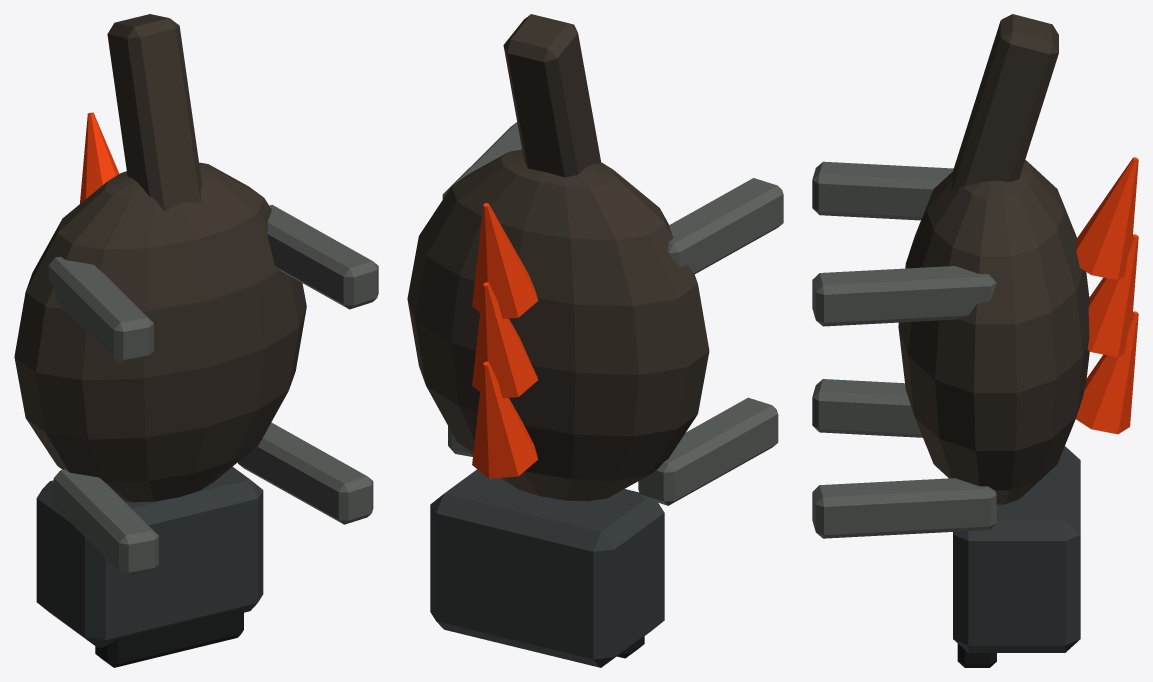
File: MoltenDrake.glb
The picture shows the model from 3 angles, left to right: view 1: azimuth 30°, elevation 25°; view 2: azimuth 150°, elevation 25°; view 3: azimuth 270°, elevation 25°; orthographic projection. The views are drawn at different scales.
Parts seen in each view (by area): view 1: Body, Head, Tail, FrontRightLeg, BackRightLeg, FrontLeftLeg, BackLeftLeg, Jaw, BackHorn3; view 2: Body, Head, Tail, FrontLeftLeg, BackLeftLeg, BackHorn1, BackHorn3, BackHorn2, BackRightLeg; view 3: Body, Head, Tail, FrontRightLeg, BackRightLeg, BackLeftLeg, FrontLeftLeg, BackHorn3, BackHorn1, BackHorn2, Jaw.
Boxes of the visible parts, left/top/right/bottom form: Body: left=14, top=162, right=306, bottom=502; Head: left=36, top=466, right=263, bottom=648; Tail: left=107, top=14, right=201, bottom=211; FrontRightLeg: left=238, top=422, right=373, bottom=524; BackRightLeg: left=267, top=204, right=378, bottom=309; FrontLeftLeg: left=53, top=469, right=158, bottom=576; BackLeftLeg: left=48, top=256, right=153, bottom=363; Jaw: left=95, top=609, right=243, bottom=667; BackHorn3: left=80, top=112, right=119, bottom=203; Body: left=407, top=149, right=709, bottom=501; Head: left=430, top=469, right=664, bottom=667; Tail: left=503, top=14, right=601, bottom=177; FrontLeftLeg: left=638, top=397, right=778, bottom=505; BackLeftLeg: left=668, top=178, right=783, bottom=274; BackHorn1: left=472, top=361, right=538, bottom=478; BackHorn3: left=472, top=203, right=538, bottom=318; BackHorn2: left=472, top=282, right=537, bottom=398; BackRightLeg: left=442, top=122, right=521, bottom=199; Body: left=898, top=160, right=1089, bottom=504; Head: left=953, top=446, right=1080, bottom=652; Tail: left=951, top=14, right=1058, bottom=193; FrontRightLeg: left=812, top=478, right=996, bottom=538; BackRightLeg: left=812, top=266, right=996, bottom=326; BackLeftLeg: left=812, top=161, right=953, bottom=220; FrontLeftLeg: left=812, top=379, right=922, bottom=437; BackHorn3: left=1076, top=157, right=1138, bottom=280; BackHorn1: left=1076, top=311, right=1138, bottom=434; BackHorn2: left=1087, top=234, right=1138, bottom=357; Jaw: left=957, top=643, right=996, bottom=667.
Size of the model in its own units: 5.17 by 11.2 by 5.37.
1 material, 1 textured.
